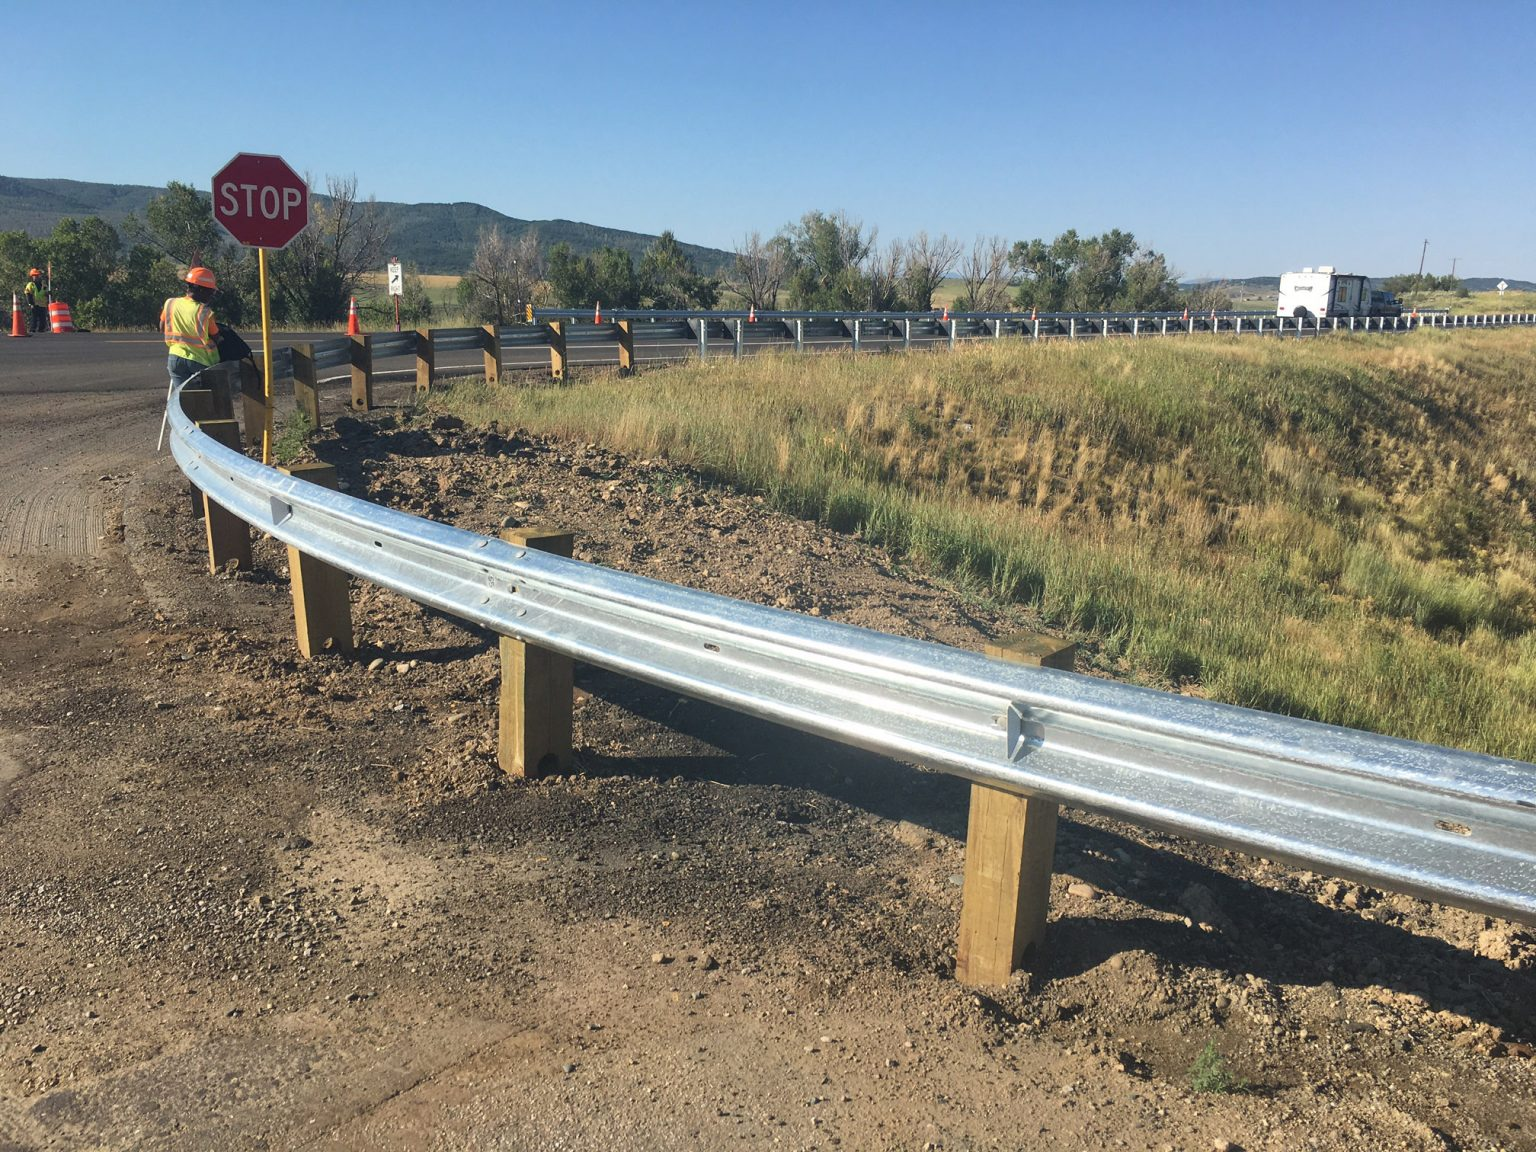not_damaged: (462, 461, 1535, 1001)
